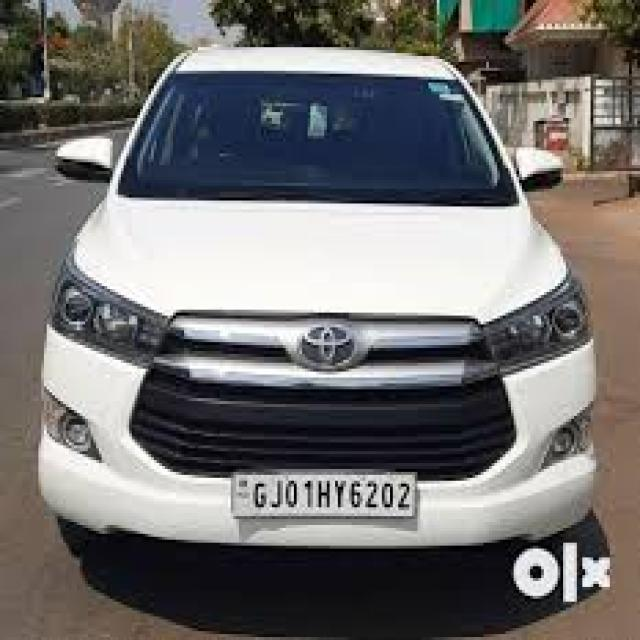light_vehicle: (39, 46, 596, 547)
